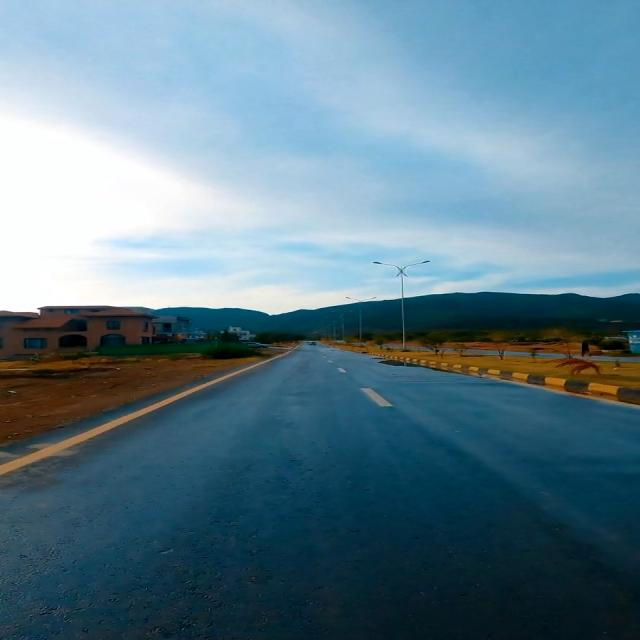lane: (0, 346, 297, 475), (361, 351, 639, 404)
road: (2, 346, 638, 639), (0, 346, 297, 475)
